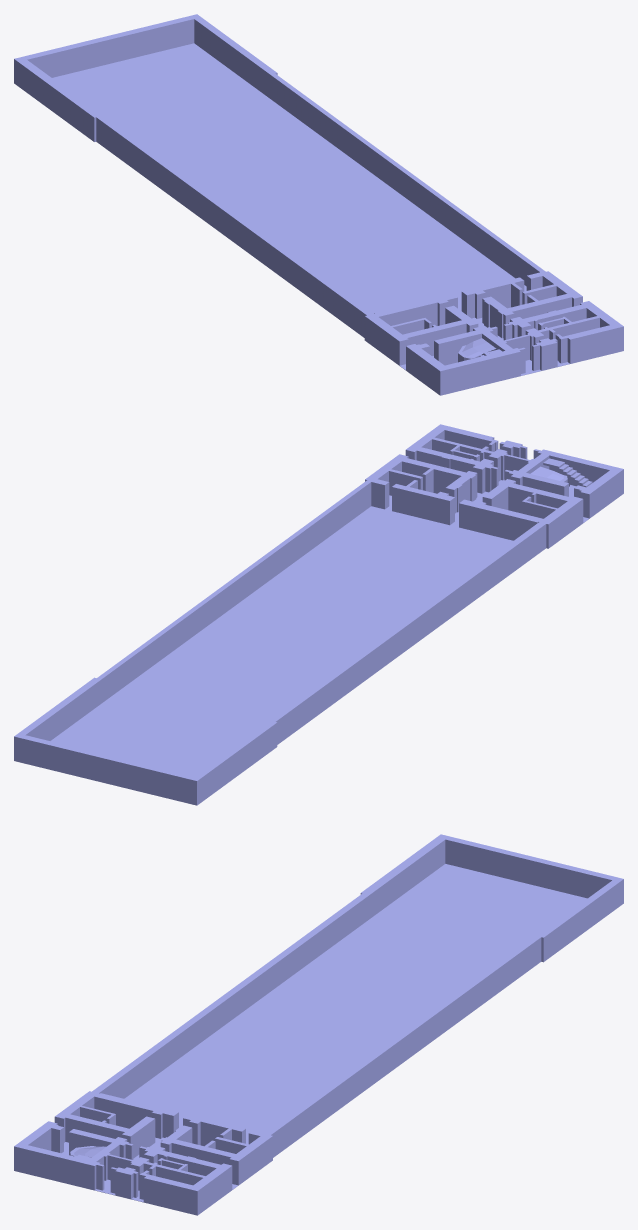
Rendered from 3CampusCasing1F.glb.
The picture shows the model from 3 angles, top to bottom: view 1: azimuth 30°, elevation 25°; view 2: azimuth 150°, elevation 25°; view 3: azimuth 330°, elevation 25°; orthographic projection.
Visible parts, largest first — view 1: Floor_1.004; view 2: Floor_1.004; view 3: Floor_1.004.
Boxes of the visible parts, bbox=[...] form: Floor_1.004: bbox=[14, 14, 623, 395]; Floor_1.004: bbox=[14, 424, 623, 805]; Floor_1.004: bbox=[14, 834, 623, 1215].
Bounding box in the file's own units: 0.6761 × 0.0876 × 2.72.
